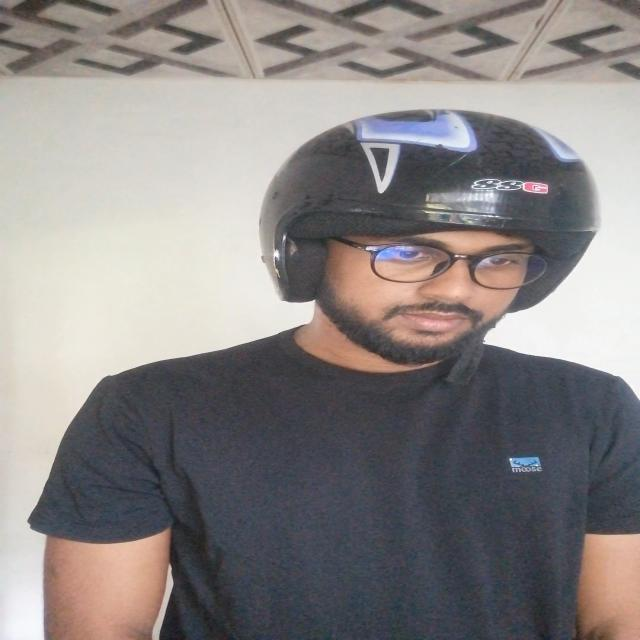Helmet_Wearer: (222, 93, 619, 410)
Person: (58, 101, 640, 640)
